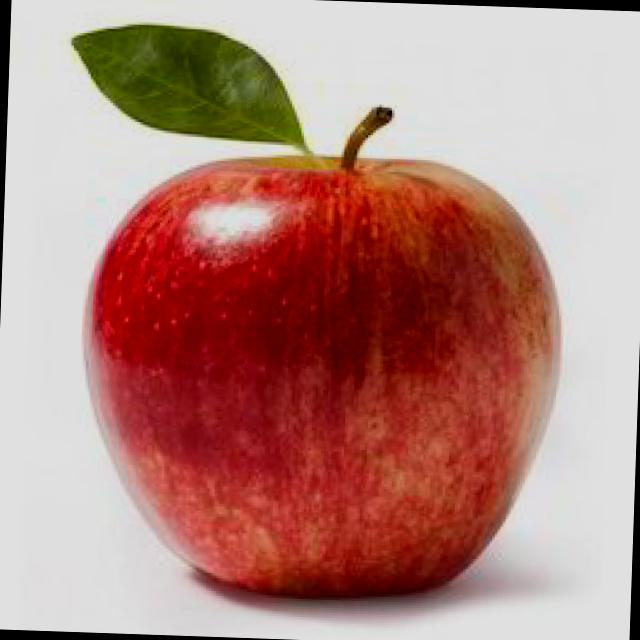apple: (54, 132, 572, 618)
